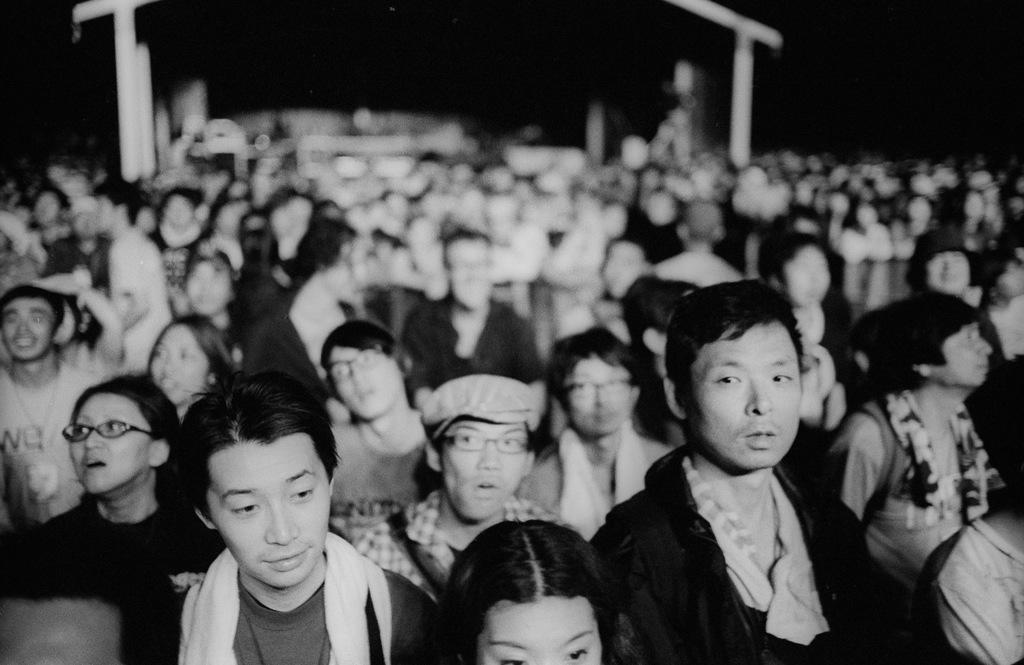Hat: (420, 373, 532, 443)
